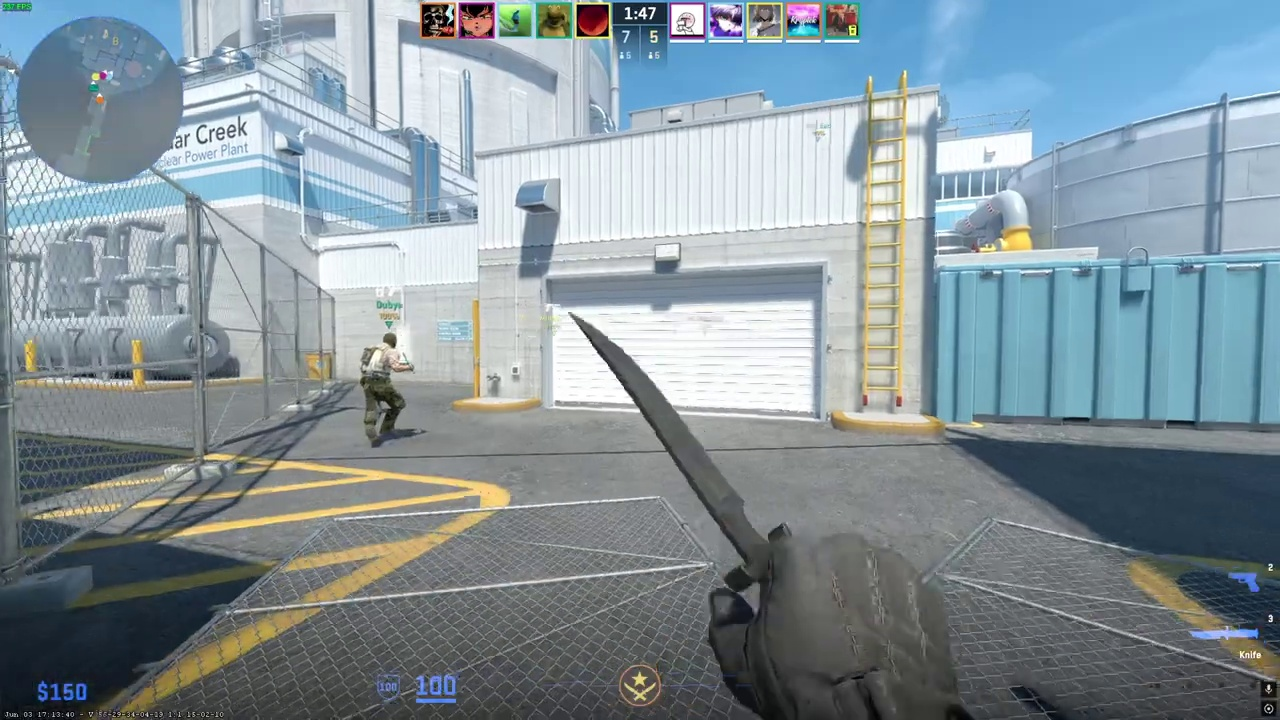Terrorist: (359, 333, 411, 443)
